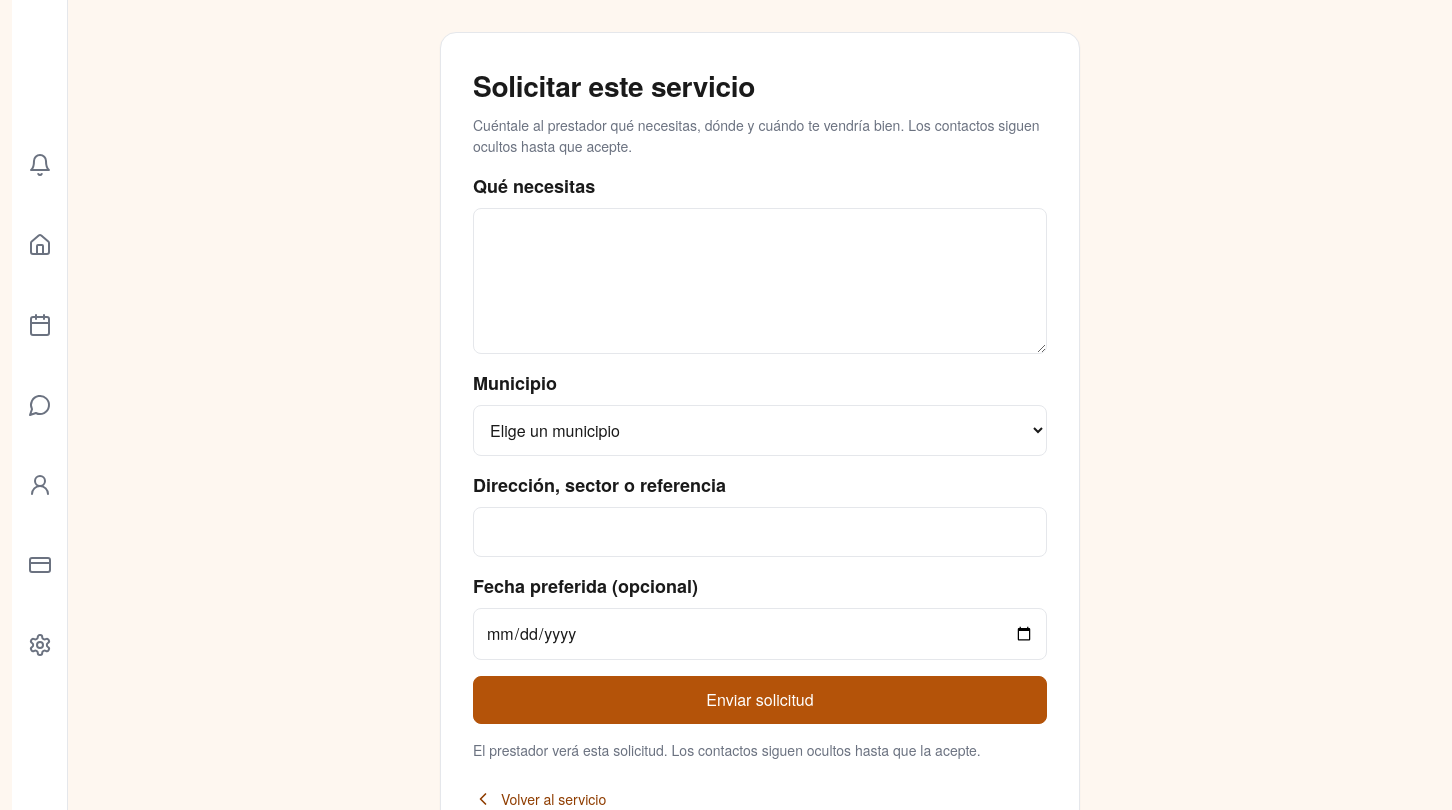
Scenario: Nueva solicitud › muestra el error de negocio del backend
The image size is (1452, 810).
Step 1. Type "Necesito una visita." into the text box labelled "Qué necesitas" → (760, 281), box x1=473 y1=208 x2=1047 y2=354
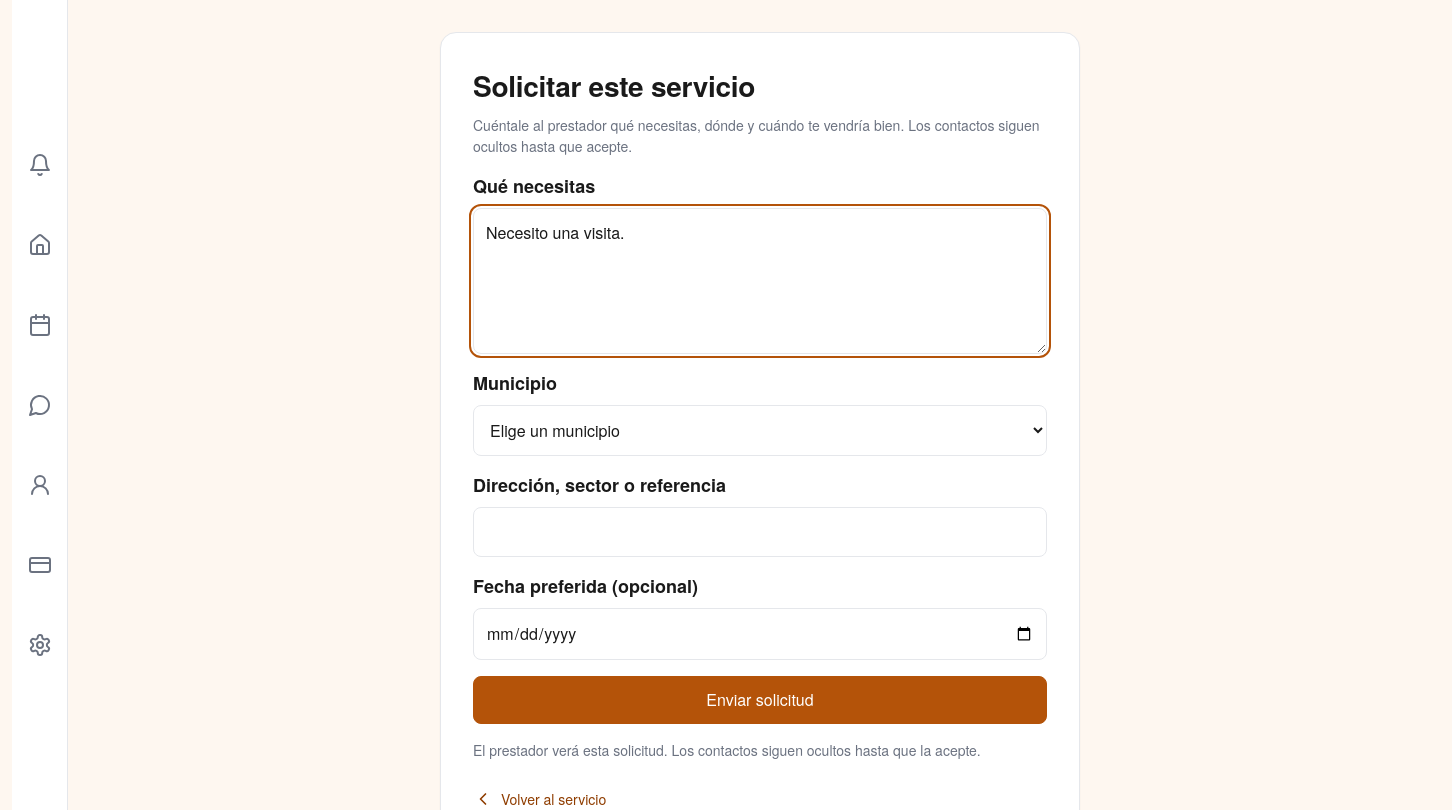
Step 2. Select "Managua: Managua" in the dropdown labelled "Municipio" → (760, 430), box x1=473 y1=405 x2=1047 y2=456
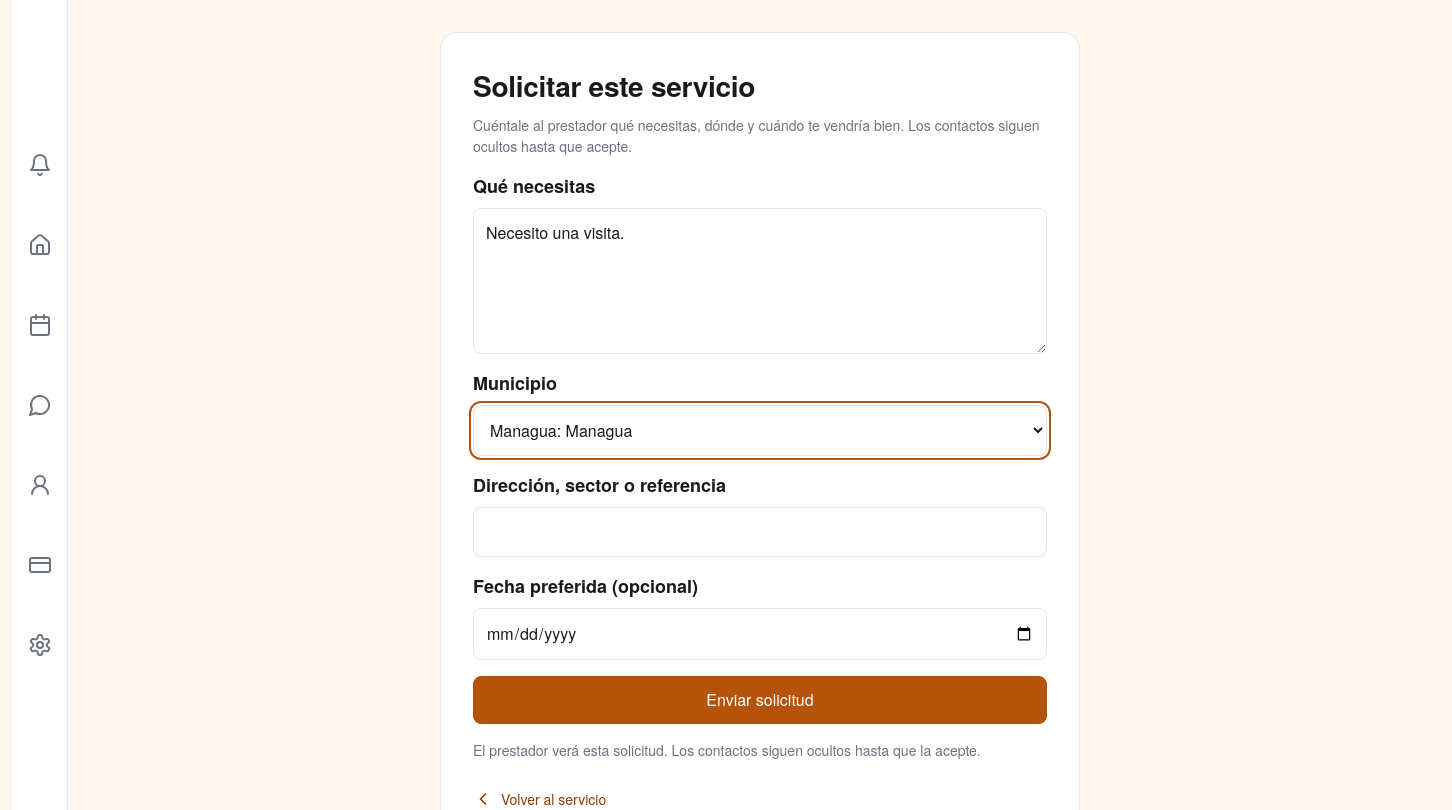
Step 3. Type "Portón verde" into the field labelled "Dirección, sector o referencia" → (760, 532), box x1=473 y1=507 x2=1047 y2=557
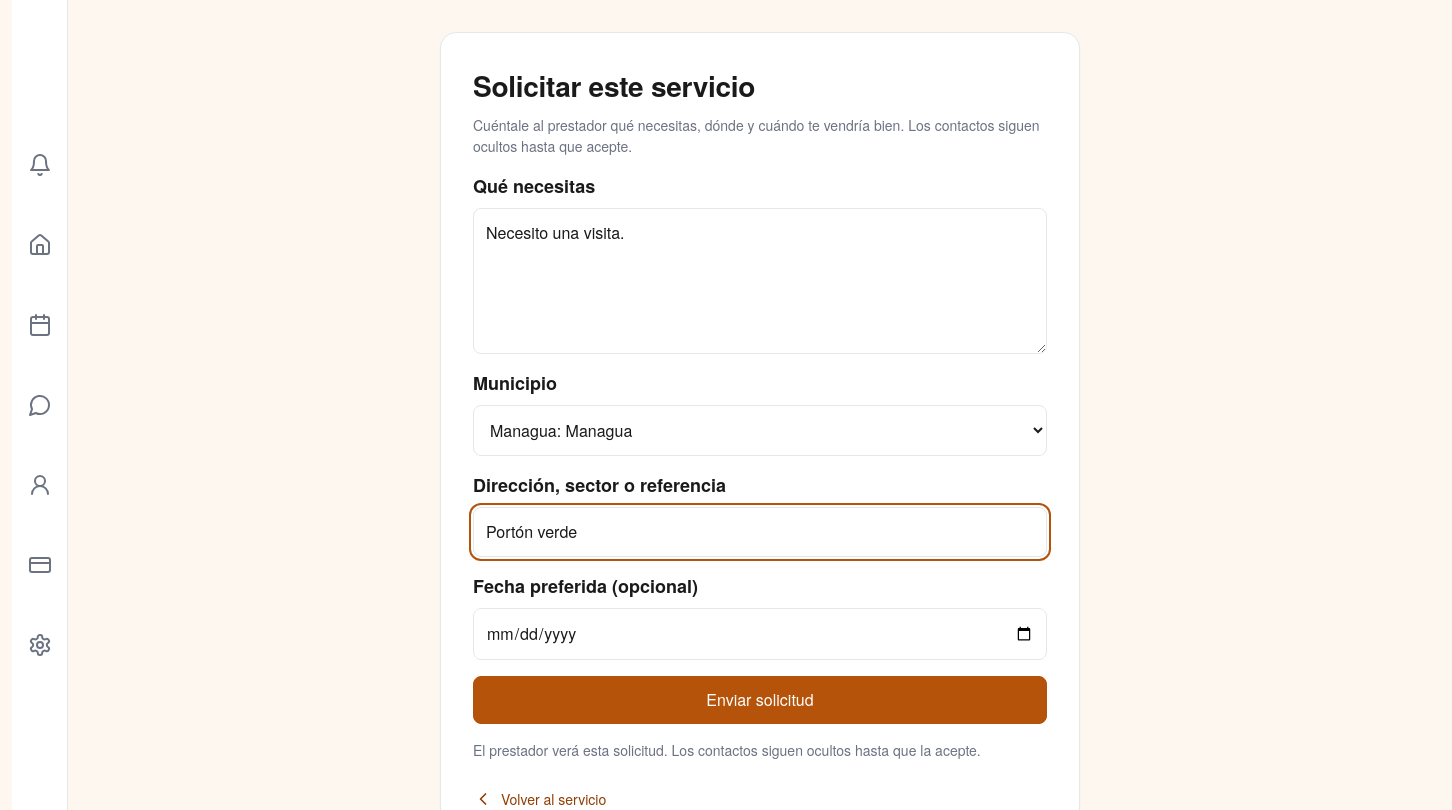
Step 4. Click the button "Enviar solicitud" → (760, 700), box x1=473 y1=676 x2=1047 y2=724
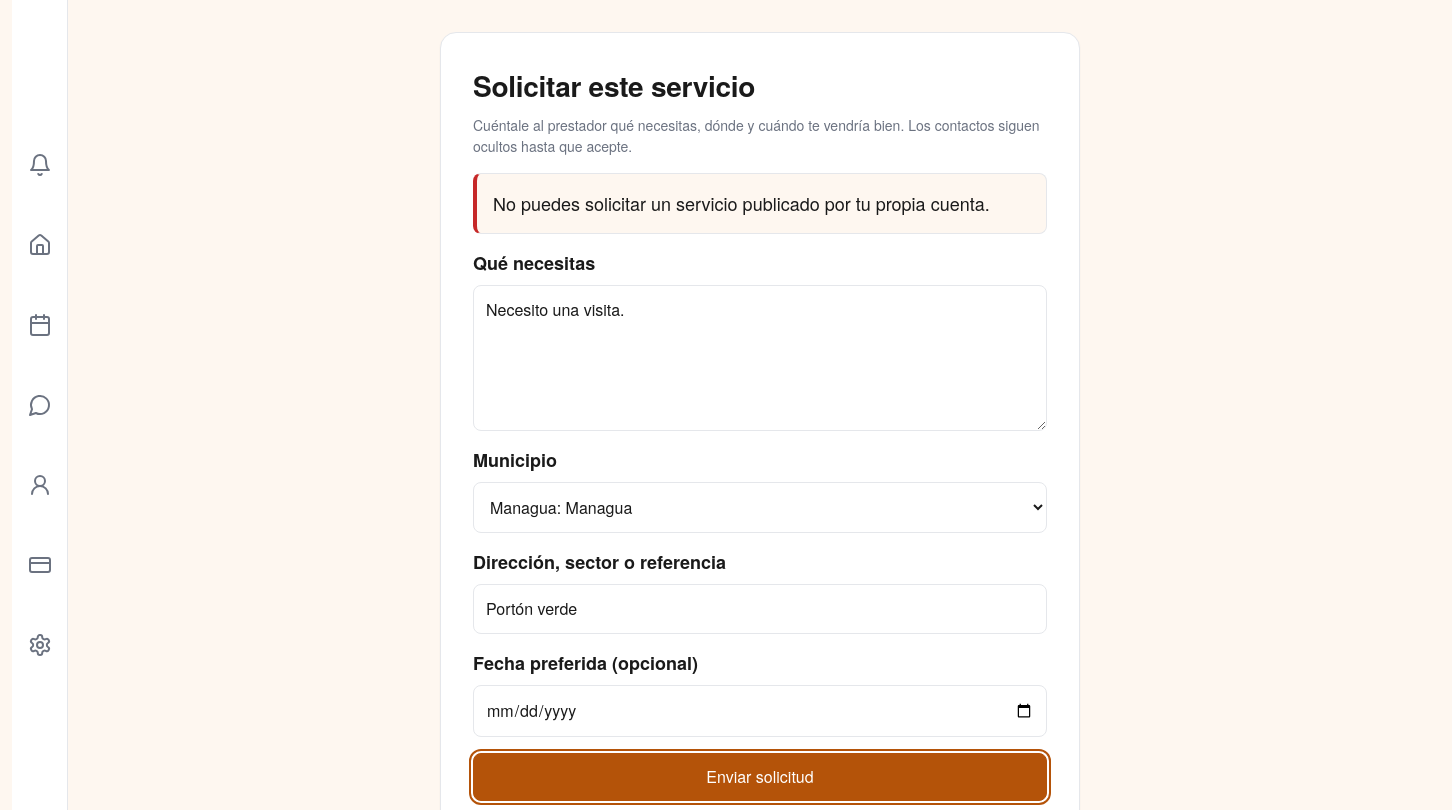
Now the text "No puedes solicitar un servicio publicado por tu propia cuenta." is shown, box x1=473 y1=173 x2=1047 y2=234
